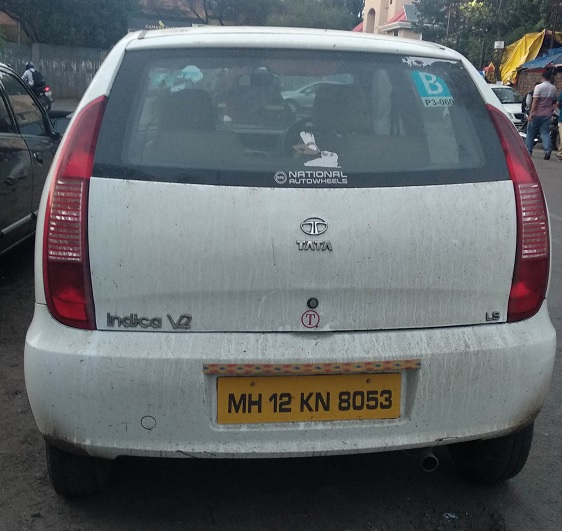licenseplate: (213, 374, 407, 422)
